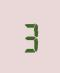three: (19, 20, 39, 52)
